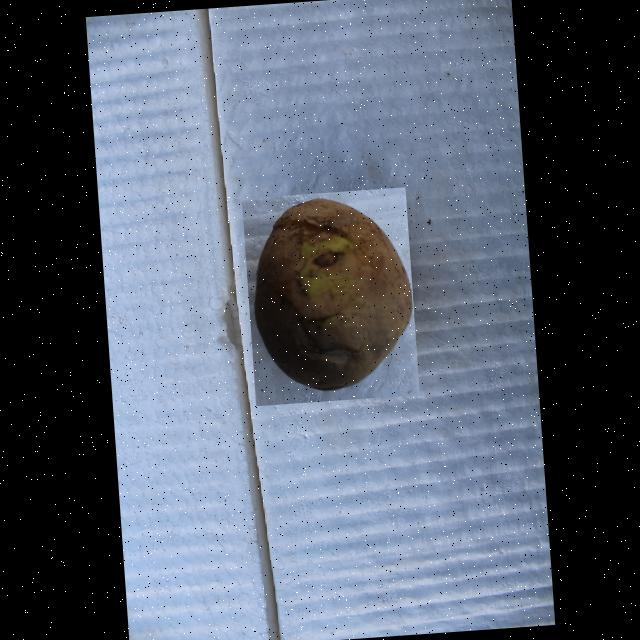Diseased-fungal potato: (242, 186, 419, 404)
